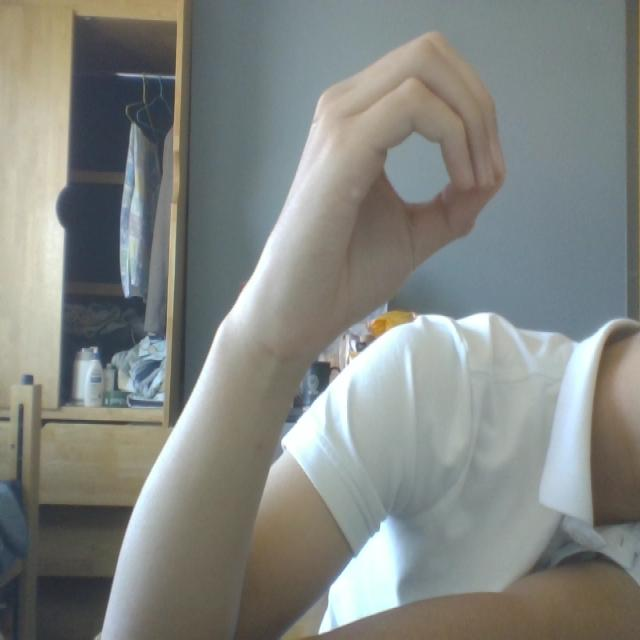O: (238, 15, 511, 346)
